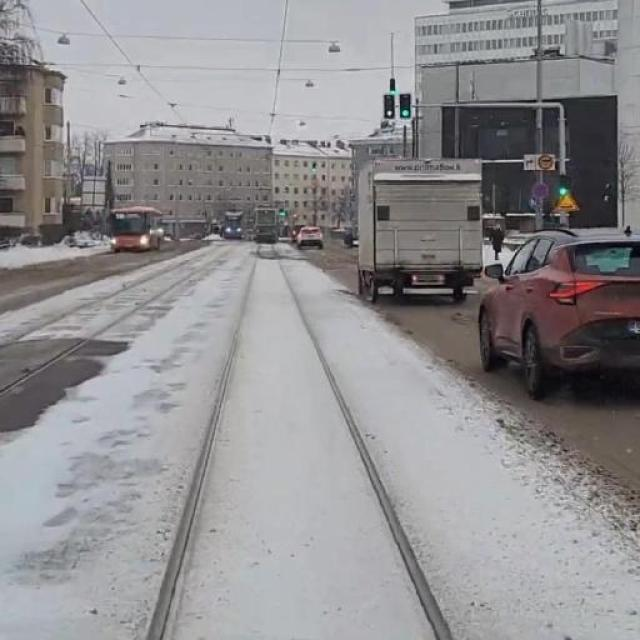vehicle: (475, 223, 640, 392), (347, 158, 486, 306), (103, 198, 170, 258), (294, 220, 332, 254), (252, 202, 280, 248), (220, 207, 250, 248)
